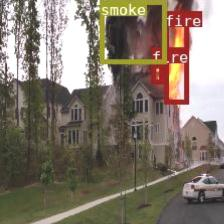fire: (163, 11, 188, 103), (151, 63, 163, 83)
smoke: (99, 0, 166, 62)
